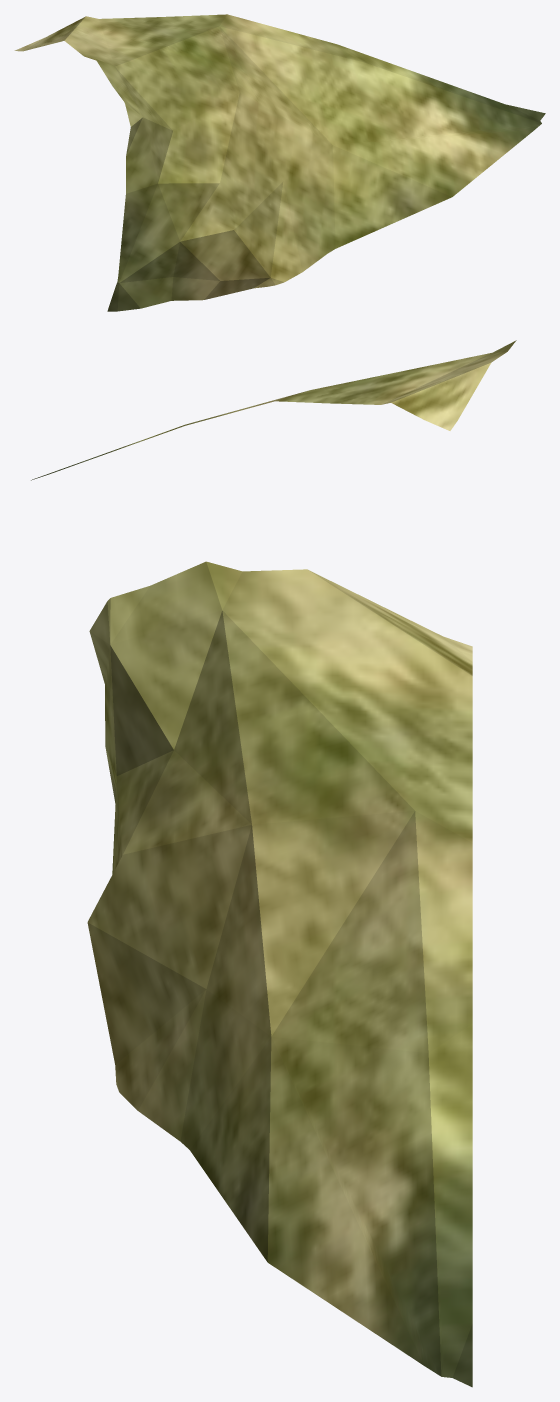
The picture shows the model from 3 angles, top to bottom: view 1: azimuth 30°, elevation 25°; view 2: azimuth 150°, elevation 25°; view 3: azimuth 270°, elevation 25°; orthographic projection. The views are drawn at different scales.
Bounding box in the file's own units: 3.95 × 1.73 × 1.51.
1 material, 1 textured.
